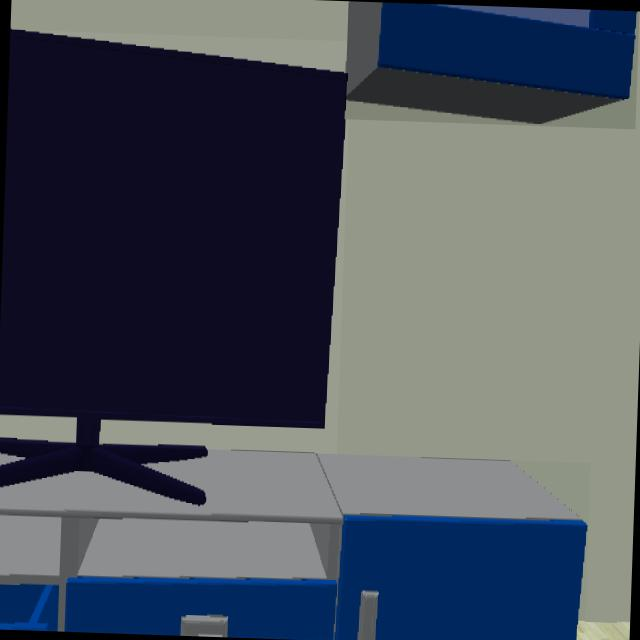cabinet: (0, 450, 588, 640), (349, 1, 638, 126)
monitor: (0, 29, 348, 508)
